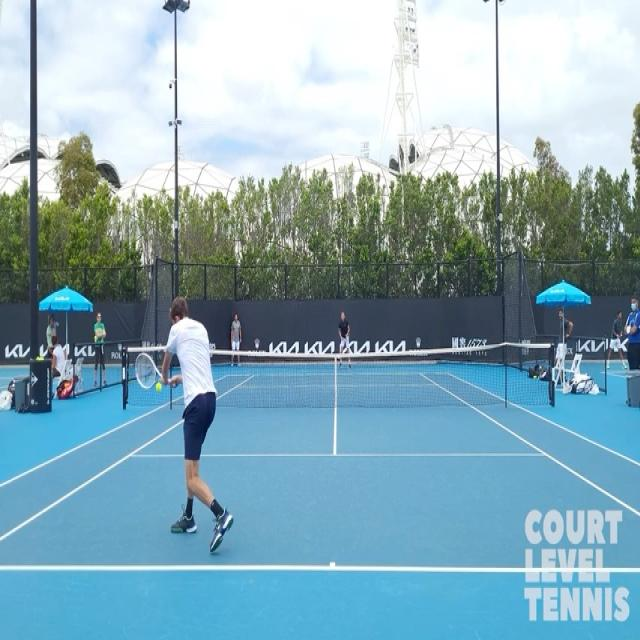backhand-stroke: (110, 280, 247, 566)
